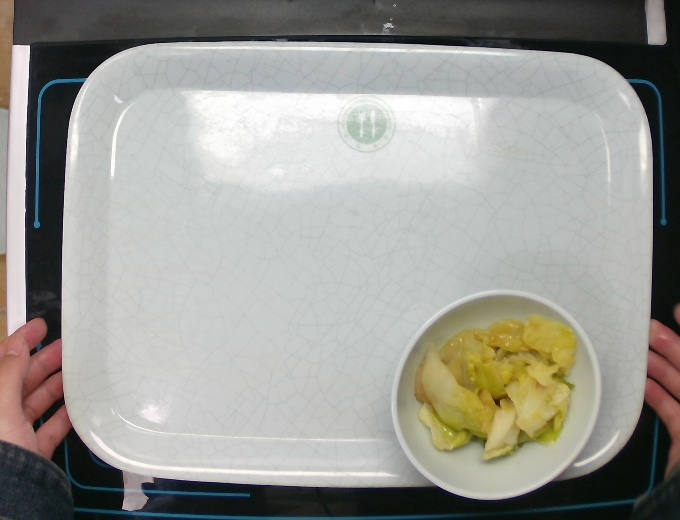JYsf-Fan_Wan: (389, 270, 609, 500)
